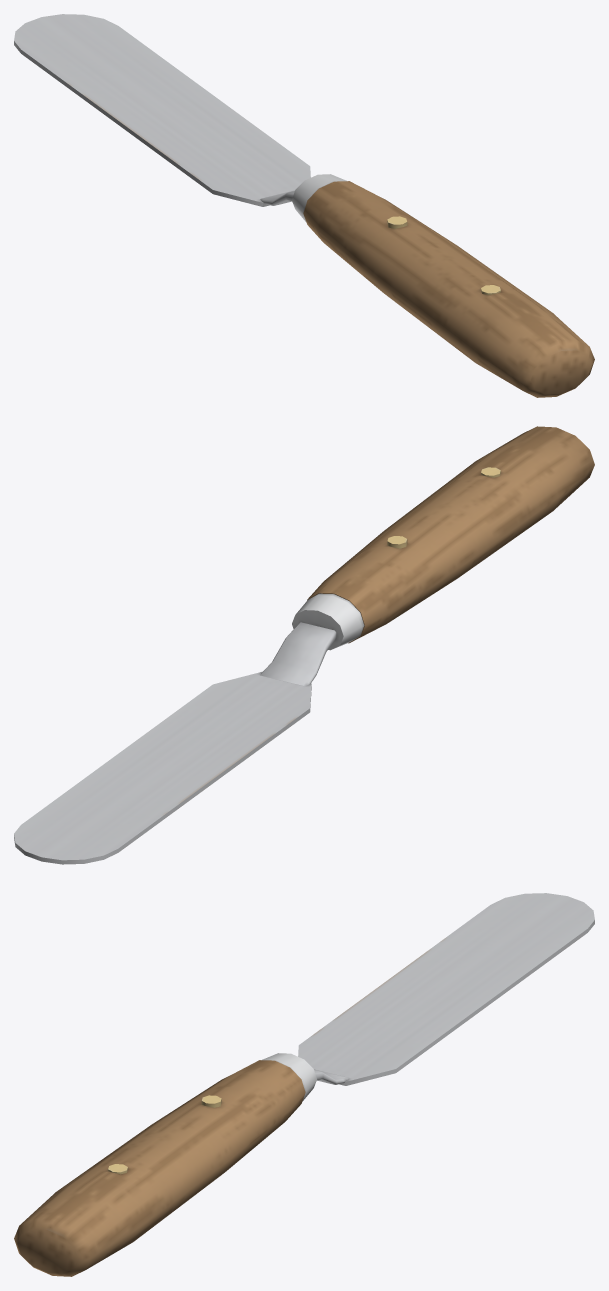
The model's file is spatula.glb.
The picture shows the model from 3 angles, top to bottom: view 1: azimuth 30°, elevation 25°; view 2: azimuth 150°, elevation 25°; view 3: azimuth 330°, elevation 25°; orthographic projection.
Parts seen in each view (by area): view 1: d4_spatula; view 2: d4_spatula; view 3: d4_spatula.
Boxes of the visible parts, left/top/right/bottom form: d4_spatula: left=14, top=14, right=594, bottom=397; d4_spatula: left=14, top=426, right=594, bottom=864; d4_spatula: left=14, top=893, right=594, bottom=1276.
Size of the model in its own units: 0.024 by 0.0149 by 0.222.
1 material, 1 textured.
